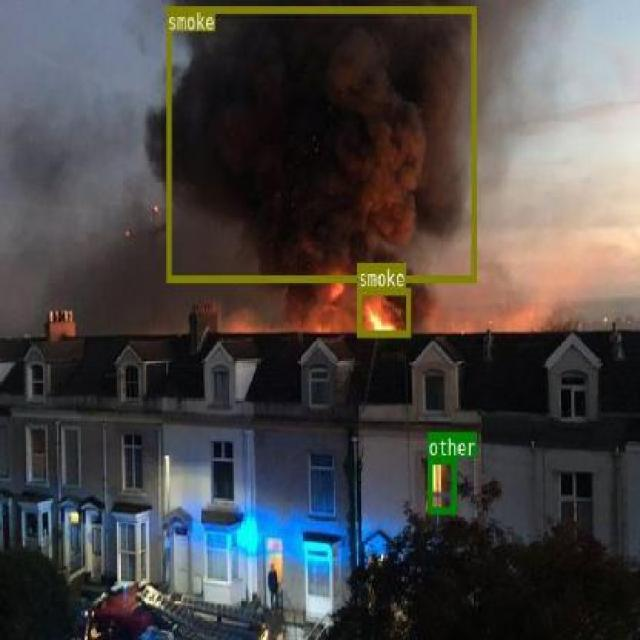Fire: (356, 288, 409, 336)
Smoke: (167, 5, 476, 281)
